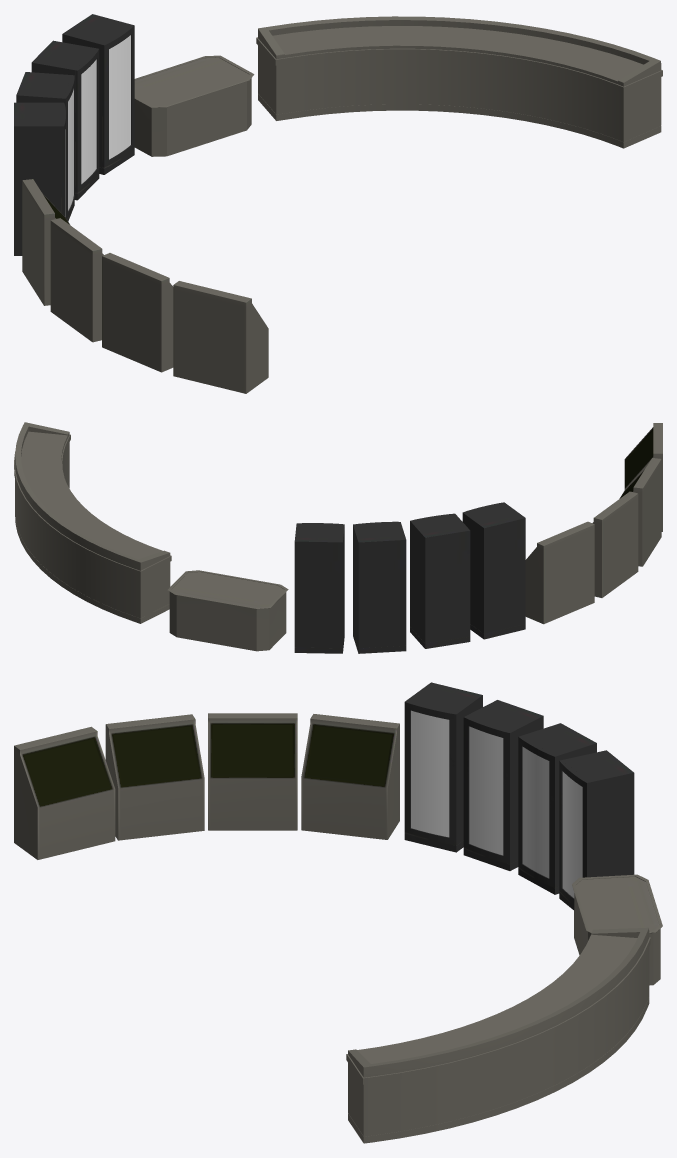
File: field_winter_machine_center.fbx
3 views of the same model, one above another, from view 1: azimuth 30°, elevation 25°; view 2: azimuth 150°, elevation 25°; view 3: azimuth 270°, elevation 25° (orthographic). The views are drawn at different scales.
Visible parts, largest first — view 1: prop_machine1, prop_server; view 2: prop_machine1, prop_server; view 3: prop_machine1, prop_server.
Part boxes in pixels (box(x1,y1,x2,y2)): prop_machine1: box(22, 16, 662, 393); prop_server: box(14, 14, 134, 255); prop_machine1: box(14, 422, 662, 651); prop_server: box(294, 502, 525, 653); prop_machine1: box(14, 713, 662, 1143); prop_server: box(404, 682, 634, 910).
Size of the model in its own units: 1391 by 275 by 1143.
2 materials, 1 textured.
